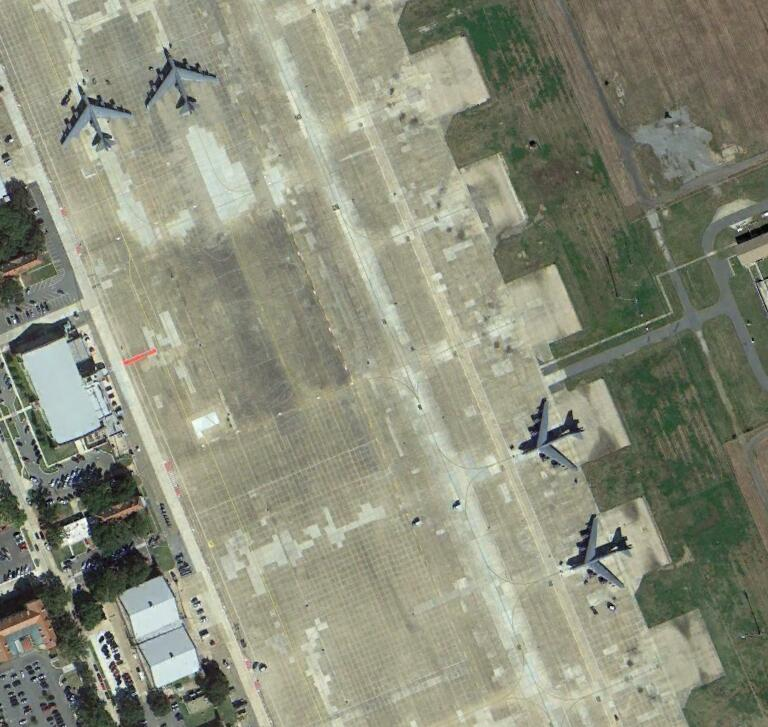A8: (55, 80, 135, 154), (143, 45, 219, 120), (518, 396, 590, 475), (564, 512, 635, 591)
